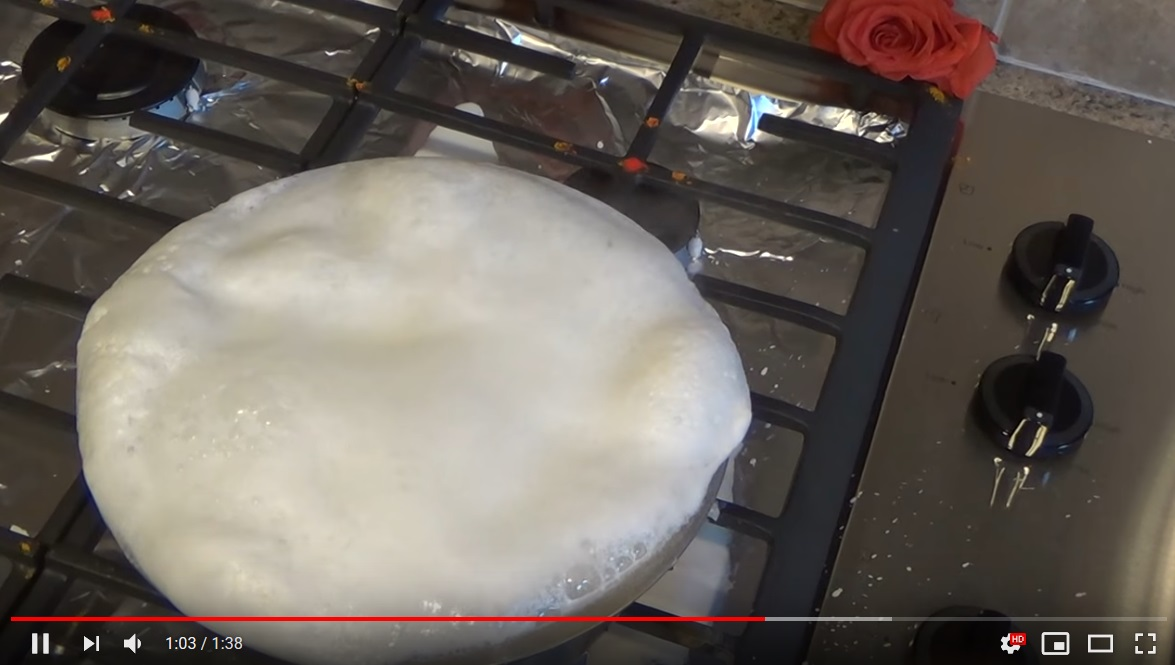Boiled: (43, 156, 763, 608)
